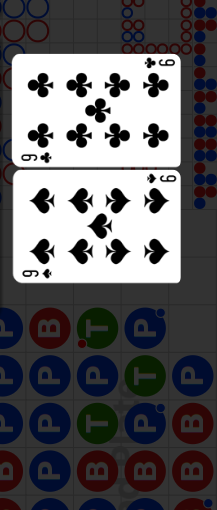9C: (142, 57, 176, 71)
9S: (21, 267, 54, 280)
